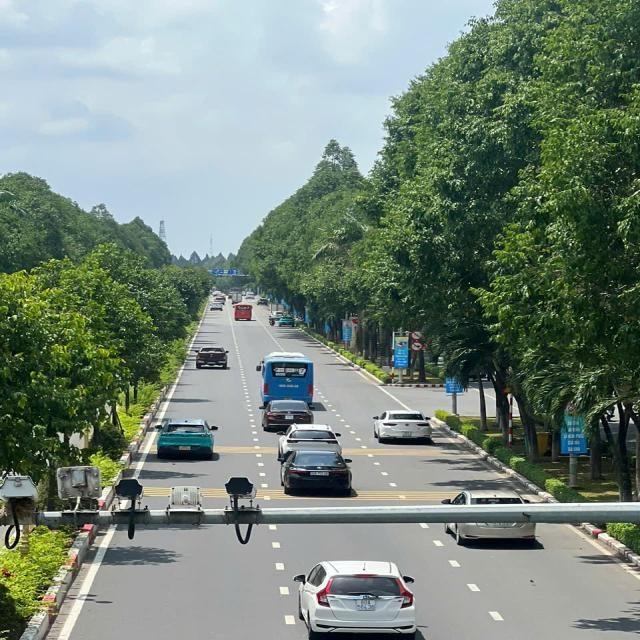Bus: (259, 347, 317, 406), (234, 303, 254, 323)
Truck: (268, 304, 286, 316), (231, 294, 242, 304), (246, 292, 255, 300)
car: (306, 560, 416, 639), (445, 492, 535, 546), (280, 452, 357, 495), (155, 417, 216, 455), (371, 406, 432, 442), (280, 424, 344, 454), (259, 398, 322, 428), (193, 344, 227, 372), (279, 317, 297, 327), (270, 311, 284, 318), (211, 303, 223, 311), (257, 300, 268, 306), (215, 298, 224, 304)
motobyte: (269, 317, 275, 327)
